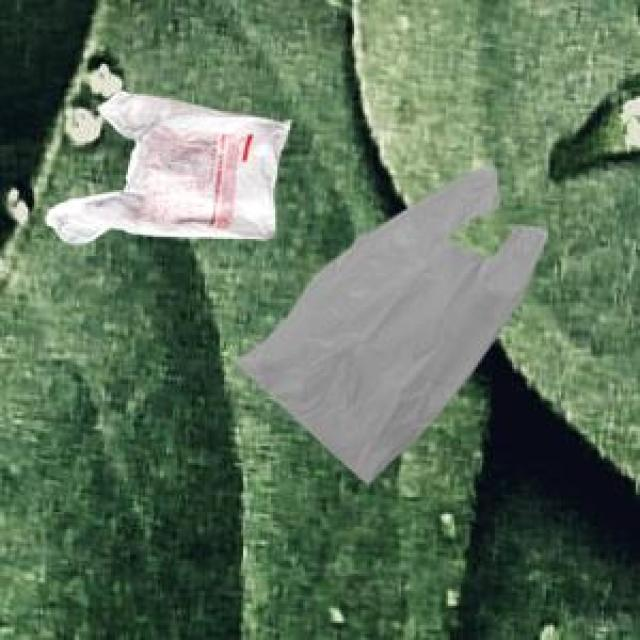waste: (239, 169, 546, 482), (46, 65, 290, 243)
